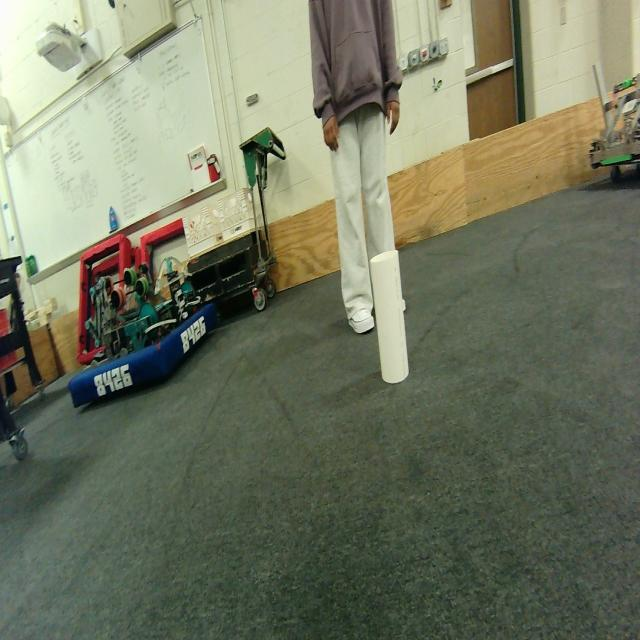coral: (369, 250, 408, 384)
